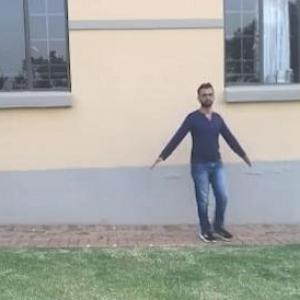land: (146, 89, 250, 248)
